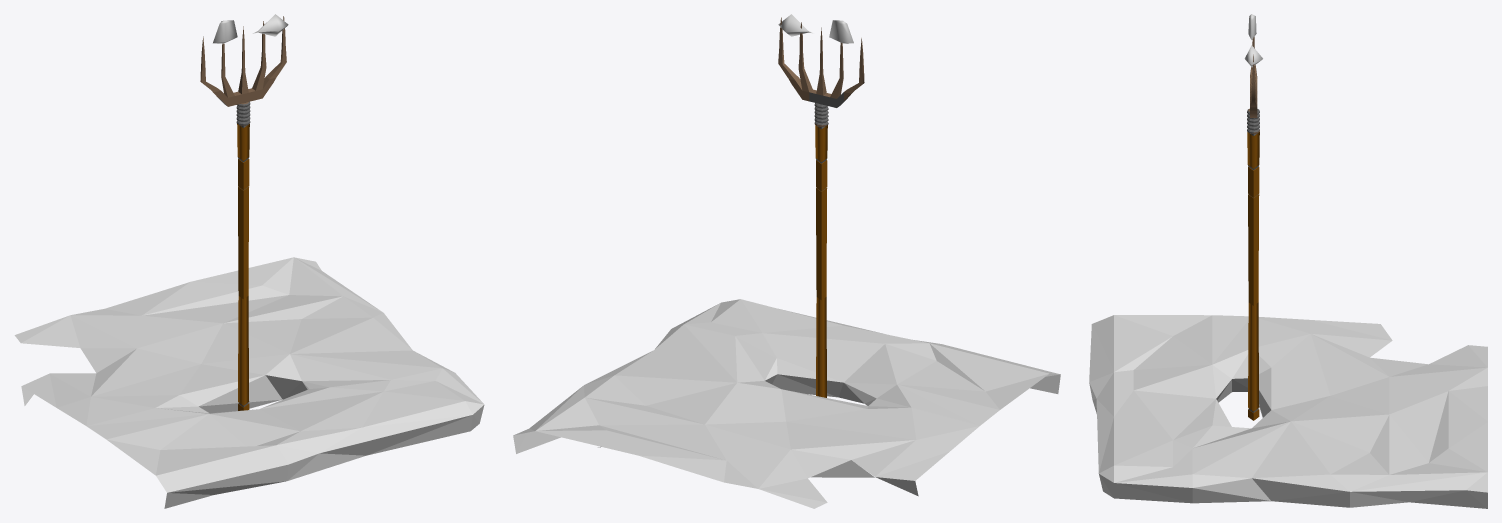
The model's file is PitchForkSn2.fbx.
3 renders of one model, left to right at view 1: azimuth 30°, elevation 25°; view 2: azimuth 150°, elevation 25°; view 3: azimuth 270°, elevation 25°, orthographic.
Parts seen in each view (by area): view 1: PitchFork_Sn; view 2: PitchFork_Sn; view 3: PitchFork_Sn.
Boxes of the visible parts, x1,y1,x2,y2 form: PitchFork_Sn: (14, 14, 484, 508); PitchFork_Sn: (513, 14, 1060, 508); PitchFork_Sn: (1089, 14, 1487, 508).
Size of the model in its own units: 10.14 by 11.2 by 10.13.
